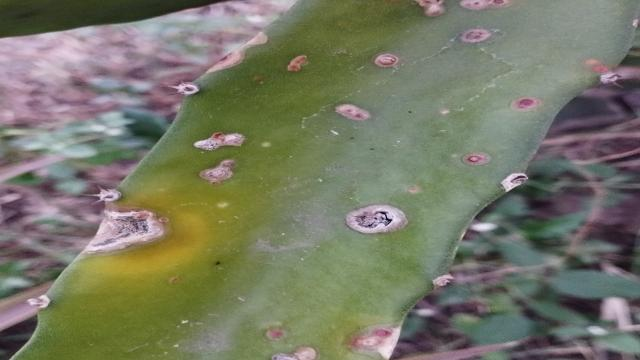stemcanker: (67, 198, 180, 266), (336, 197, 416, 239), (349, 321, 403, 359), (188, 127, 249, 158), (192, 155, 246, 188), (325, 98, 377, 128), (499, 170, 534, 201), (455, 24, 497, 49), (369, 50, 404, 75), (508, 93, 544, 115), (460, 148, 493, 171)
